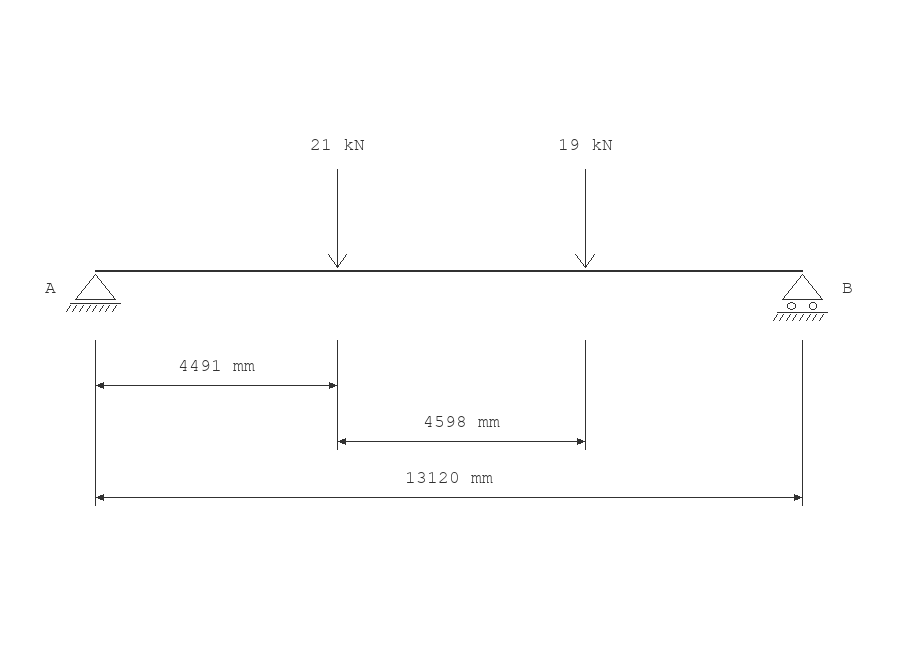pin_support: (66, 274, 121, 312)
point_load: (575, 169, 595, 268), (328, 169, 347, 268)
roller_support: (773, 274, 828, 321)
